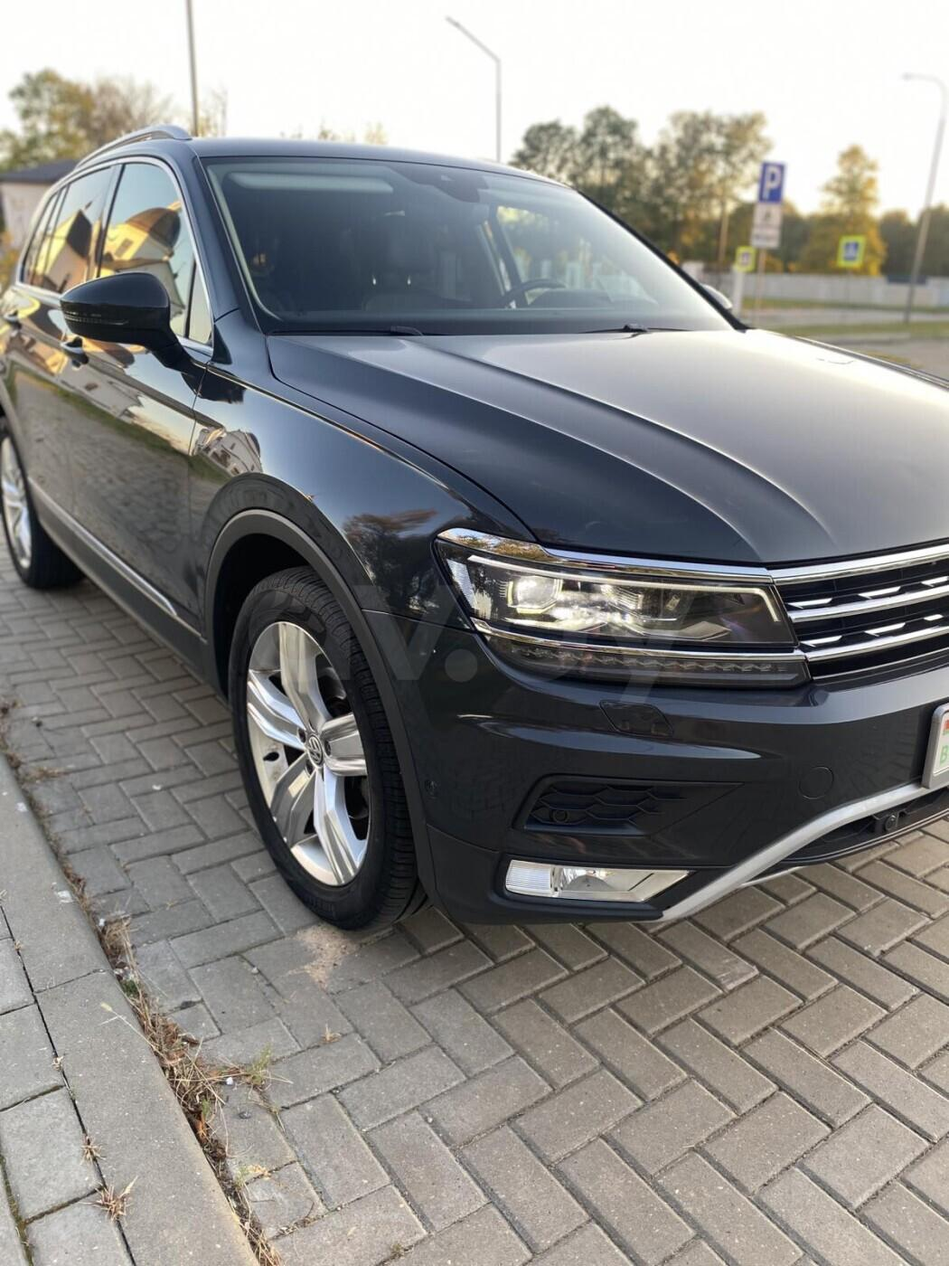Tiguan_2016-2021: (0, 125, 949, 942)
